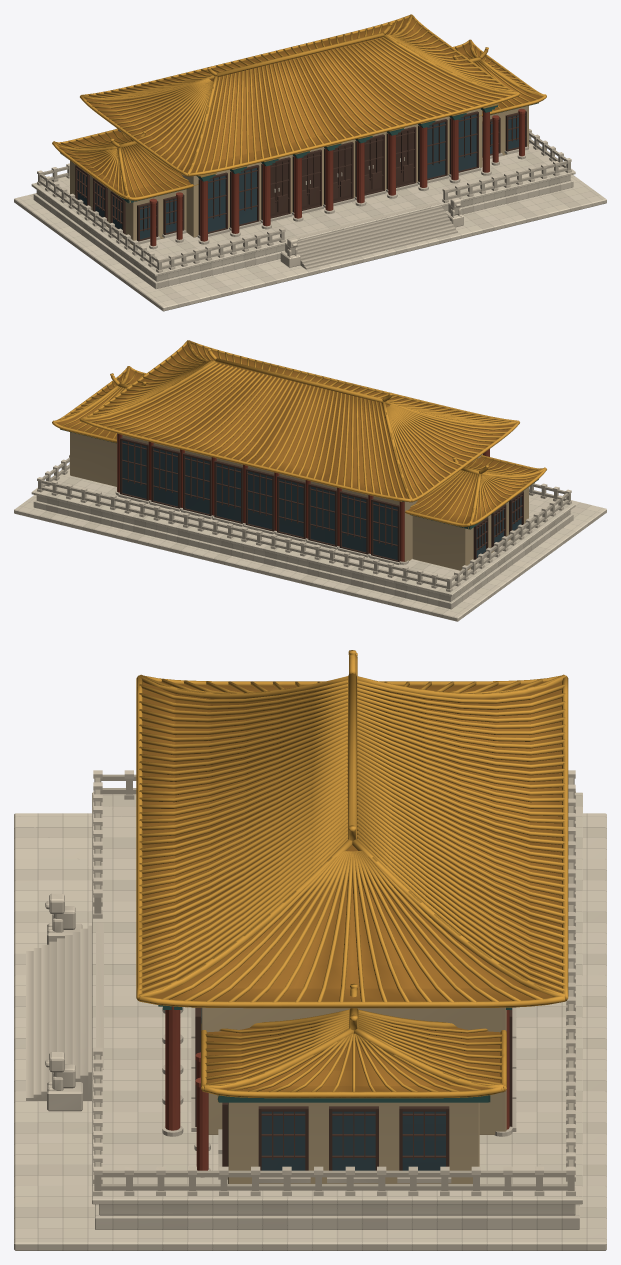
The model's file is museum.glb.
The picture shows the model from 3 angles, top to bottom: view 1: azimuth 30°, elevation 25°; view 2: azimuth 150°, elevation 25°; view 3: azimuth 270°, elevation 25°; orthographic projection. The views are drawn at different scales.
Visible parts, largest first — view 1: 南京博物院_WEB_建筑; view 2: 南京博物院_WEB_建筑; view 3: 南京博物院_WEB_建筑.
Boxes of the visible parts, <box> form: 南京博物院_WEB_建筑: <box>14,14,606,311</box>; 南京博物院_WEB_建筑: <box>14,340,606,621</box>; 南京博物院_WEB_建筑: <box>14,650,606,1250</box>.
Bounding box in the file's own units: 34 × 10.96 × 19.8.
11 materials, 2 textured.
